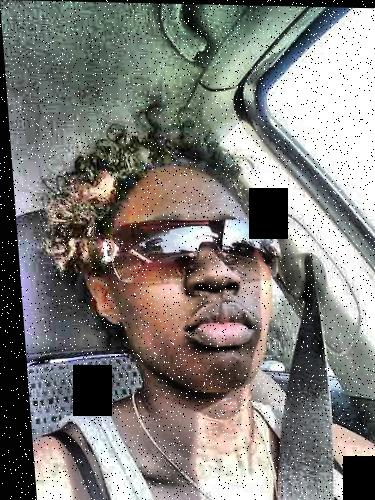seatbelt: (243, 243, 357, 487)
